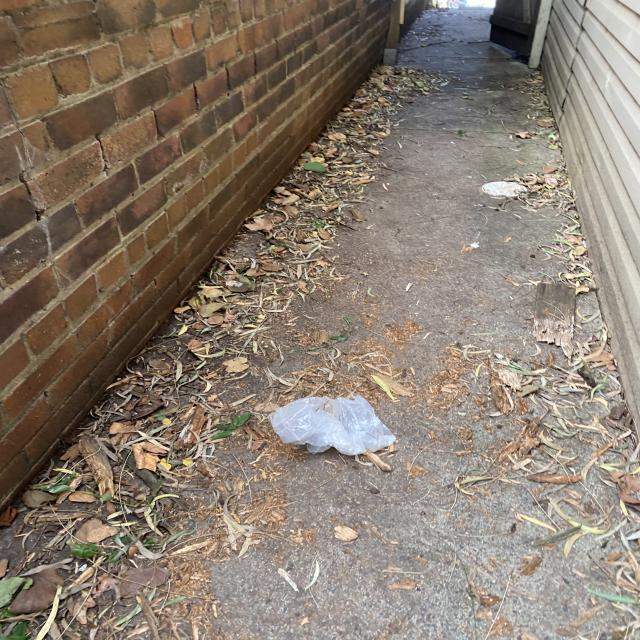cloth: (263, 391, 402, 468), (476, 171, 525, 205)
